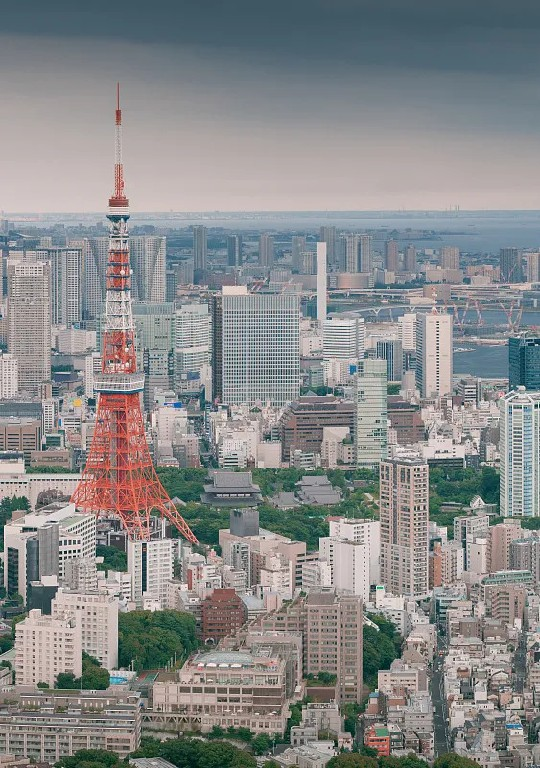Tokyo: (70, 77, 199, 551)
